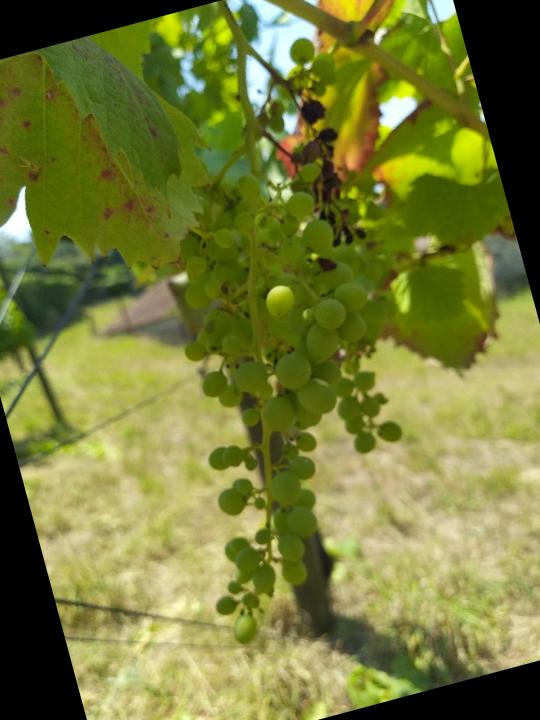grape: (103, 144, 473, 661), (273, 83, 383, 253)
